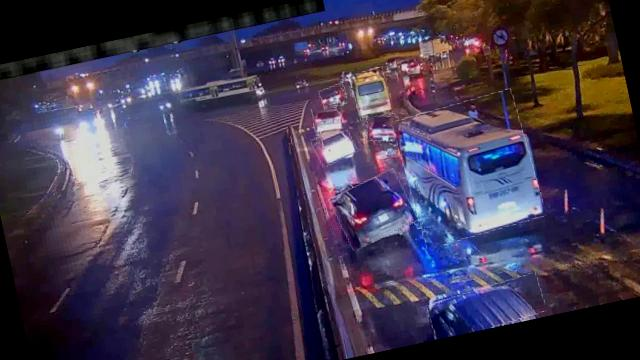Bus: (392, 88, 545, 248), (348, 67, 394, 120)
Car: (425, 274, 547, 339), (329, 170, 418, 250), (310, 124, 358, 166), (311, 102, 352, 136), (364, 110, 402, 144), (319, 83, 349, 110)
